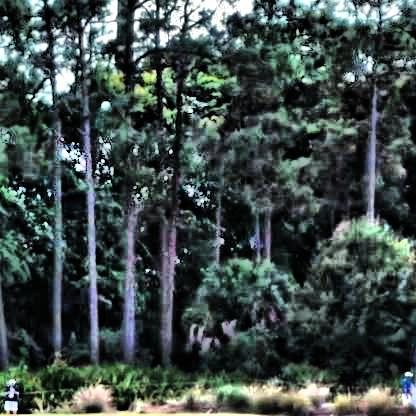golfball: (99, 98, 109, 107)
